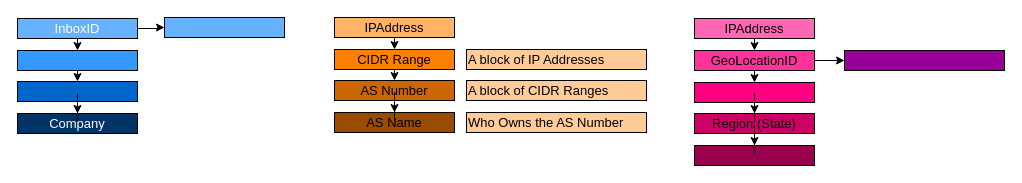
Some shapes in this 1022 by 183 pixel diagram are drawn without their labels. Here are the shapes that lost their labels. From the top down, the centre of each, then its label:
[224,27]: SendDate
[77,60]: Campaign
[924,60]: TimeZone (Olson Name)
[77,91]: Subscription List
[754,92]: Postal Code
[754,155]: Country
